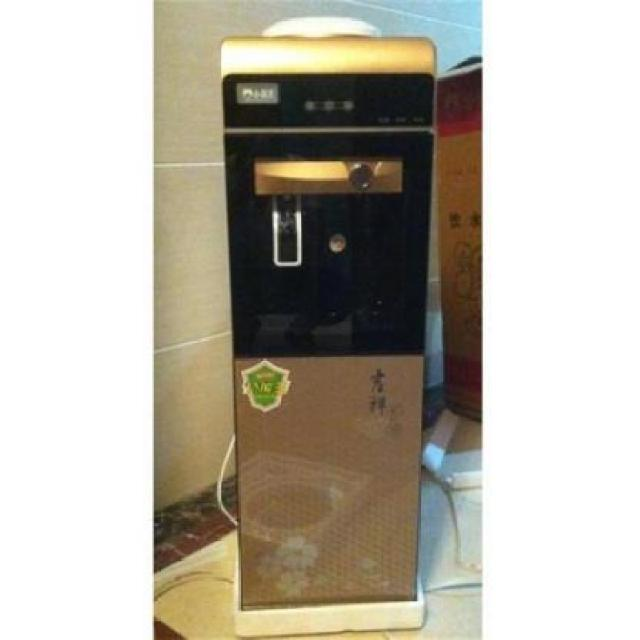cooler: (220, 37, 436, 631)
